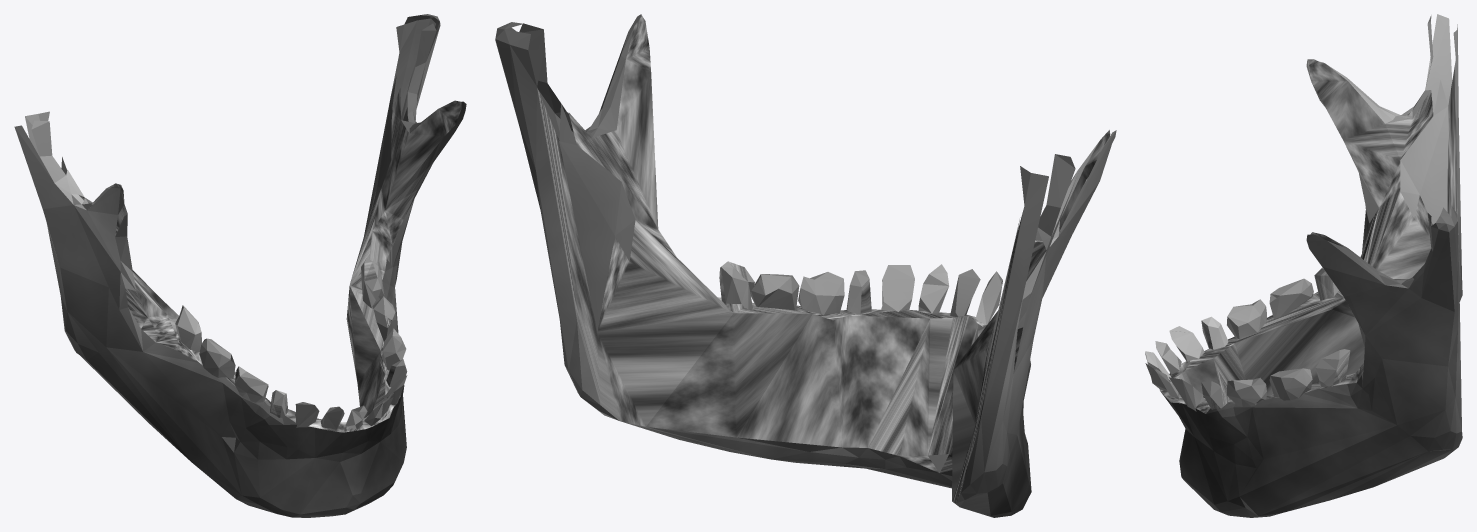
File: jaw.obj
3 views of the same model, side by side, from view 1: azimuth 30°, elevation 25°; view 2: azimuth 150°, elevation 25°; view 3: azimuth 270°, elevation 25° (orthographic). The views are drawn at different scales.
Visible parts, largest first — view 1: jaw; view 2: jaw; view 3: jaw.
Boxes of the visible parts, bbox=[...] form: jaw: bbox=[14, 14, 466, 517]; jaw: bbox=[495, 14, 1116, 517]; jaw: bbox=[1145, 14, 1462, 517].
Bounding box in the file's own units: 3.64 × 3.02 × 2.28.
